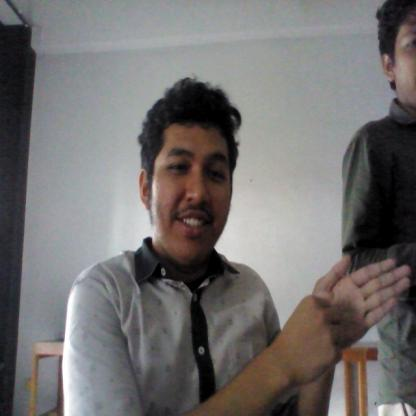Nama: (272, 252, 415, 388)
